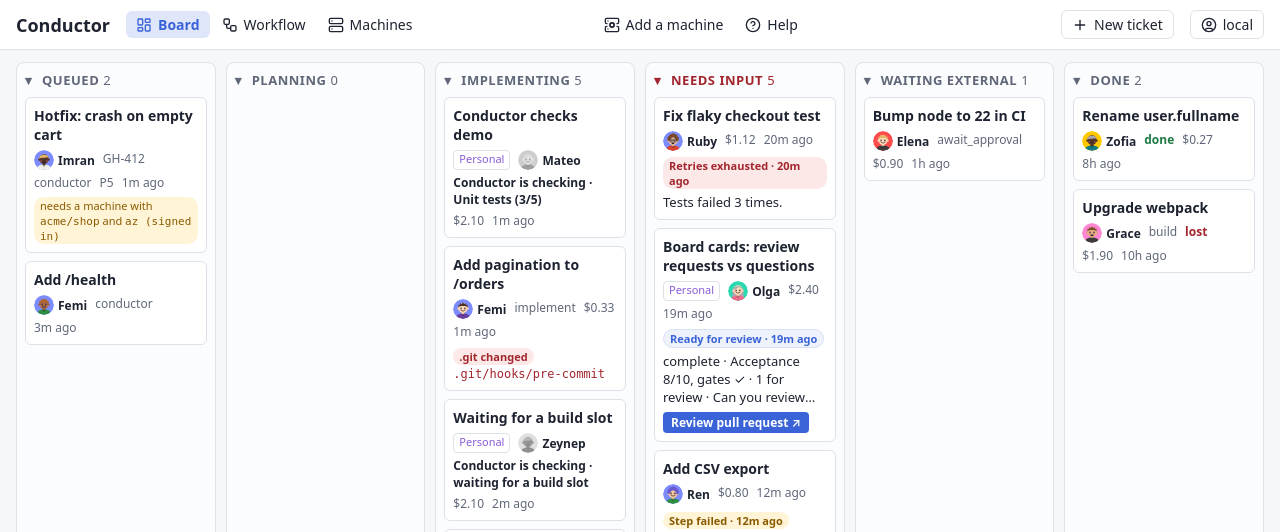
Test case: history from the transcript (ADR-0008) › says so when the machine is offline
Click the button "Rename user.fullname" at (1164, 116), box [1082,106,1246,125]
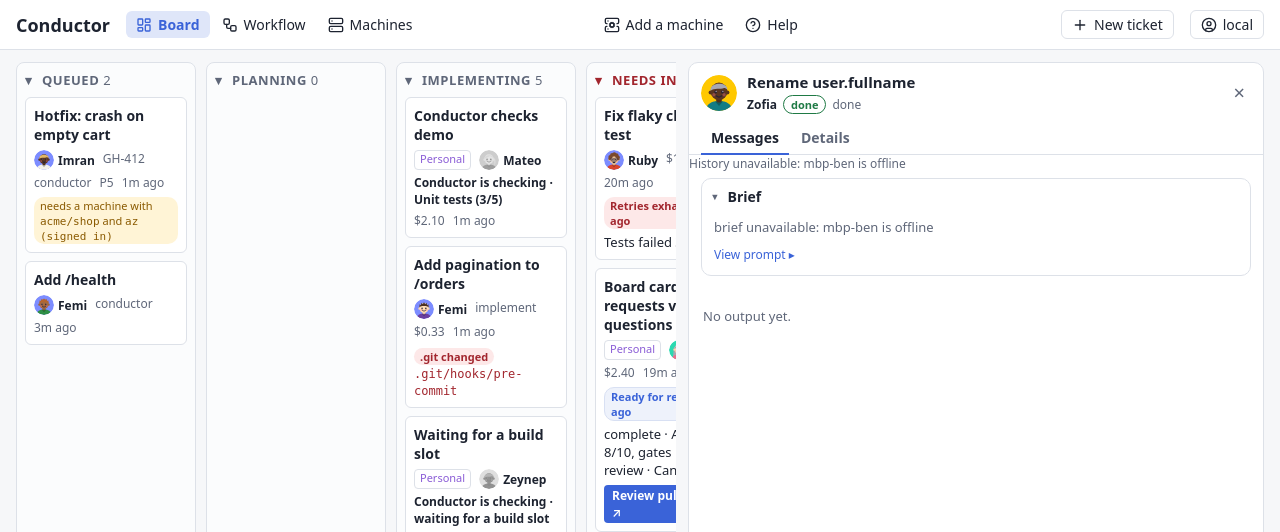
Expected: the element showing "No output yet." is shown, [703,306,791,324]
Expected: the text "History unavailable: mbp-ben is offline" is shown, [689,154,906,172]
